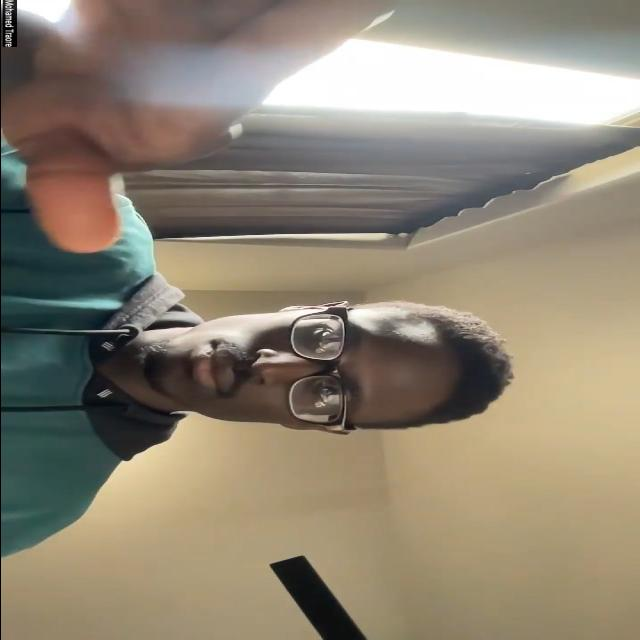Paper: (0, 0, 402, 252)
